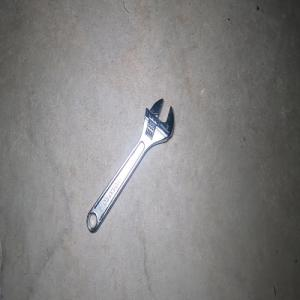Wrench: (86, 98, 174, 232)
